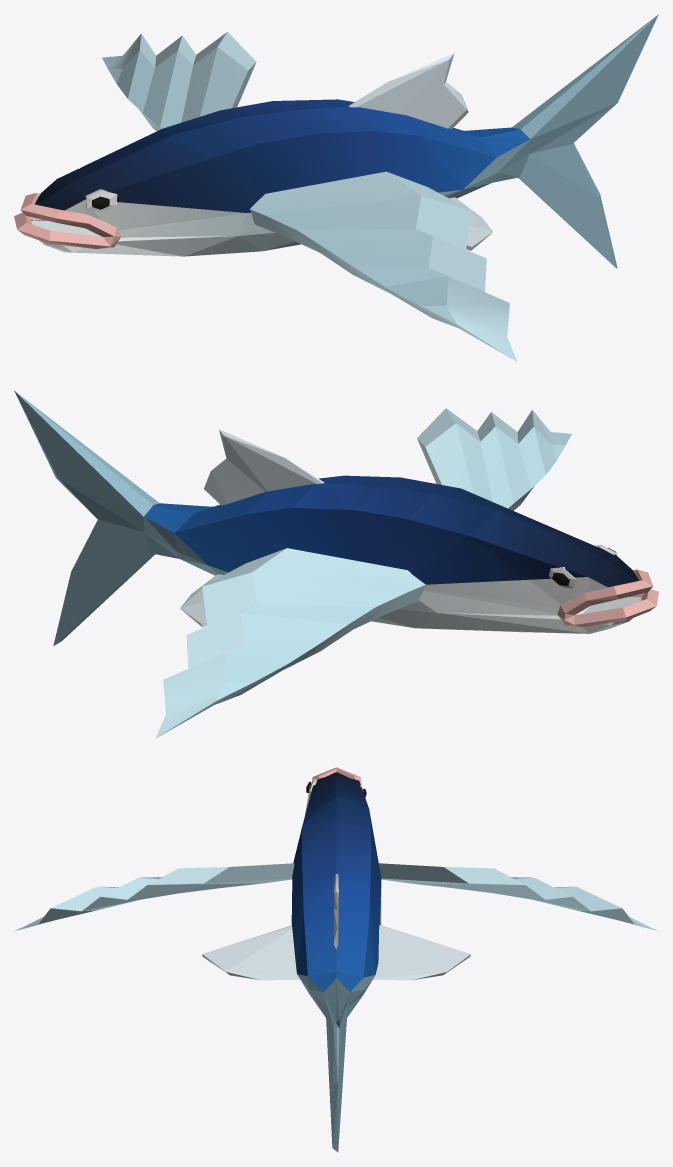
The model's file is Nalchi_animated.fbx.
3 renders of one model, top to bottom at view 1: azimuth 30°, elevation 25°; view 2: azimuth 150°, elevation 25°; view 3: azimuth 270°, elevation 25°, orthographic. The views are drawn at different scales.
Parts seen in each view (by area): view 1: Fish_nalchi; view 2: Fish_nalchi; view 3: Fish_nalchi.
Part boxes in pixels (<box>): Fish_nalchi: <box>14,14,658,361</box>; Fish_nalchi: <box>14,390,658,738</box>; Fish_nalchi: <box>14,767,658,1152</box>.
Bounding box in the file's own units: 38.03 × 42.67 × 14.49.
Materials: 1 (1 with a texture image).
